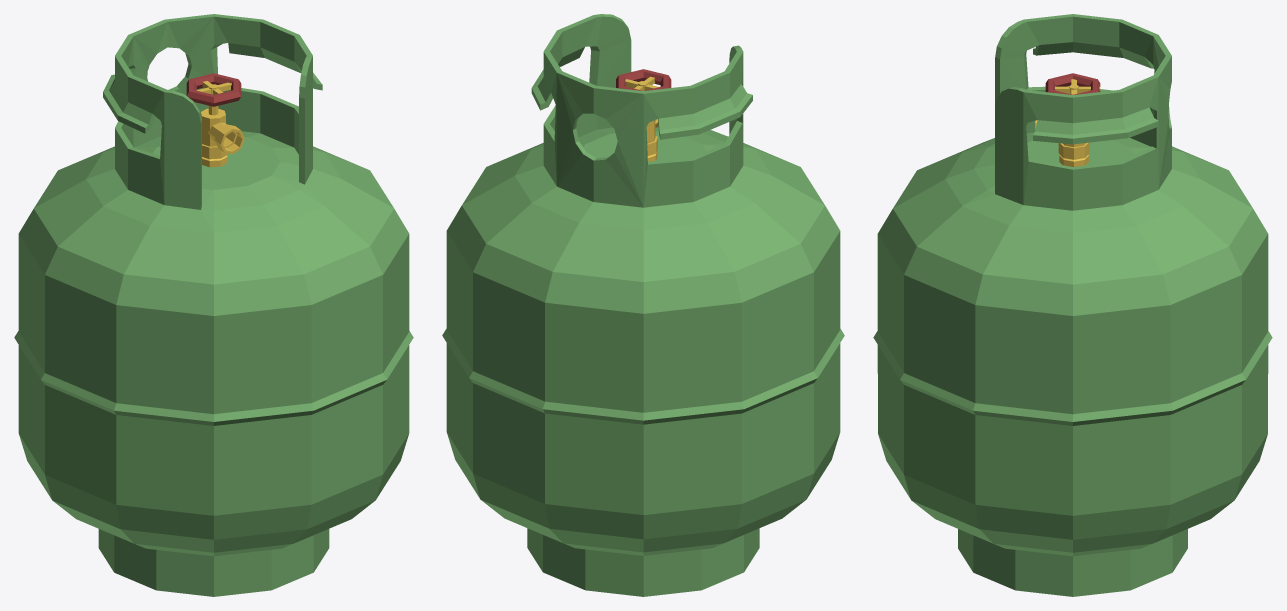
Rendered from Propane_tank.fbx.
3 renders of one model, left to right at view 1: azimuth 30°, elevation 25°; view 2: azimuth 150°, elevation 25°; view 3: azimuth 270°, elevation 25°, orthographic.
Parts seen in each view (by area): view 1: Propane_tank; view 2: Propane_tank; view 3: Propane_tank.
Part boxes in pixels (x1,y1,x2,y2): Propane_tank: (14,14,413,596); Propane_tank: (442,14,844,596); Propane_tank: (873,14,1272,596).
Bounding box in the file's own units: 0.2478 × 0.3369 × 0.2476.
1 material, 1 textured.
